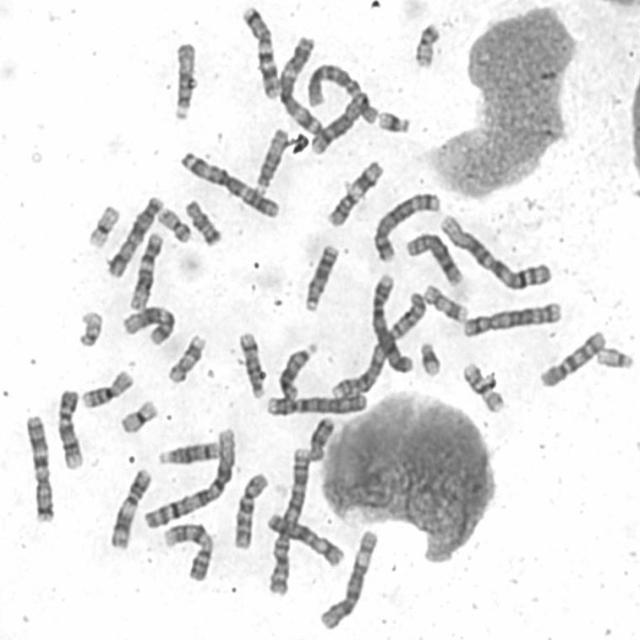A1: (140, 422, 240, 532), (434, 210, 554, 292)
A2: (327, 287, 428, 401), (263, 442, 310, 598)
A3: (176, 146, 281, 220), (275, 31, 326, 137)
B4: (368, 269, 415, 376), (262, 388, 370, 418)
B5: (370, 188, 442, 264), (459, 297, 564, 339)
C10: (534, 325, 608, 390), (228, 468, 271, 551)
C11: (323, 155, 385, 229), (106, 464, 153, 552)
C12: (125, 228, 165, 312), (118, 302, 178, 348)
C6: (316, 525, 380, 631), (302, 59, 378, 125)
C7: (236, 1, 282, 100), (20, 408, 56, 524)
C8: (307, 91, 370, 156), (402, 229, 464, 287)
C9: (159, 519, 214, 583), (53, 385, 85, 471)
D13: (299, 239, 340, 314), (274, 337, 320, 401)
D14: (234, 328, 267, 400), (154, 436, 223, 466)
D15: (168, 36, 199, 124), (251, 124, 290, 192)
E16: (459, 358, 506, 415), (77, 365, 134, 410)
E17: (163, 330, 207, 385), (421, 280, 468, 324)
E18: (180, 194, 223, 248), (304, 413, 336, 462)
F19: (84, 200, 121, 249), (116, 396, 159, 436)
F20: (410, 18, 442, 70), (154, 203, 193, 244)
G21: (373, 106, 412, 136), (415, 338, 443, 378)
G22: (74, 306, 104, 348), (593, 343, 635, 371)
X: (103, 190, 165, 278), (262, 507, 346, 569)
